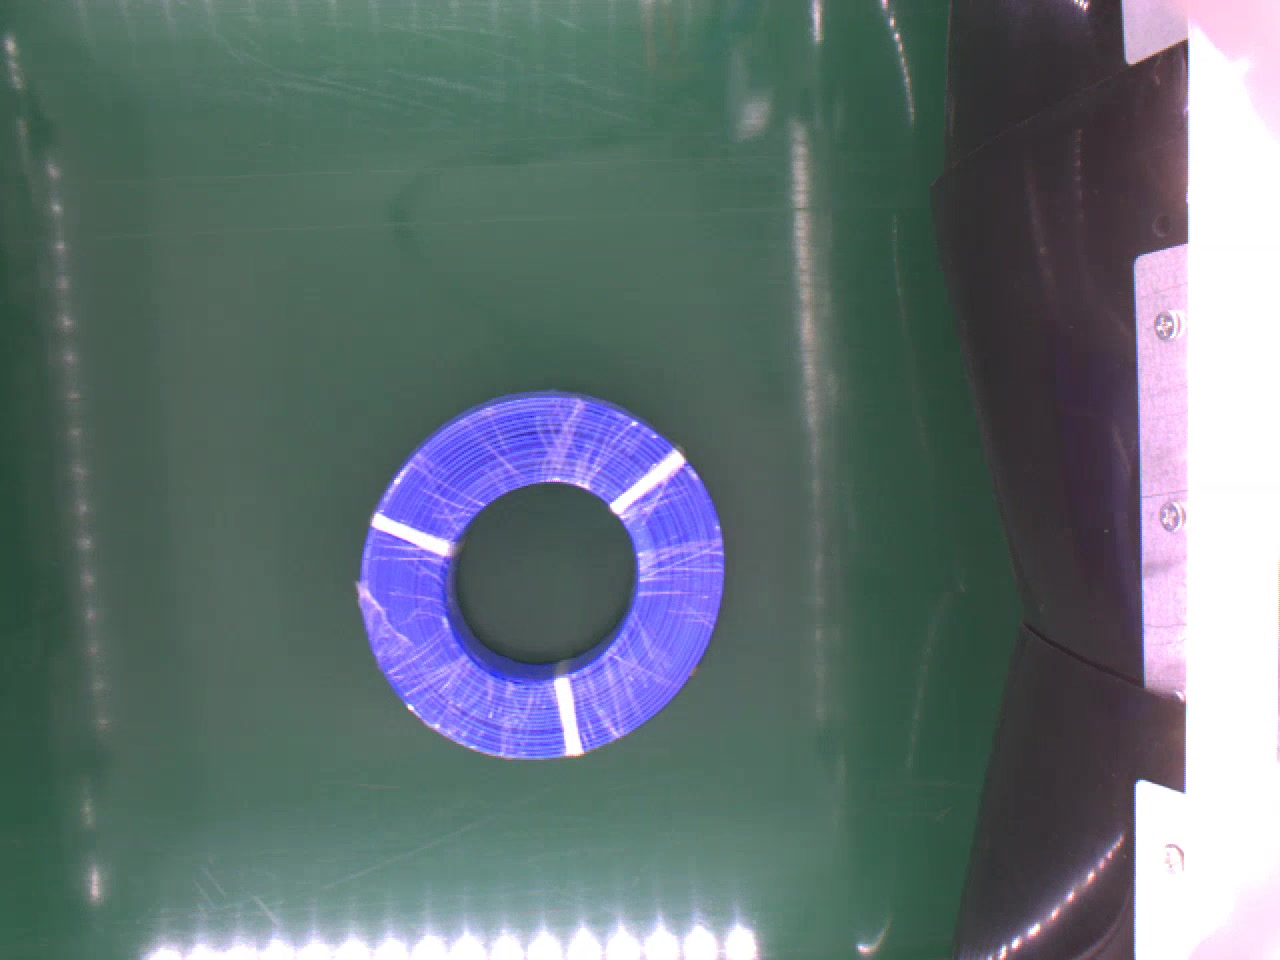blue: (356, 386, 735, 764)
